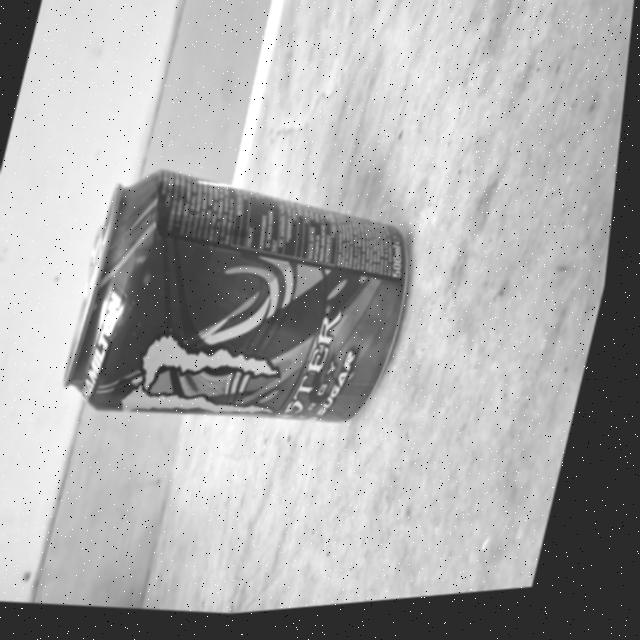Monster LH44: (58, 148, 445, 451)
